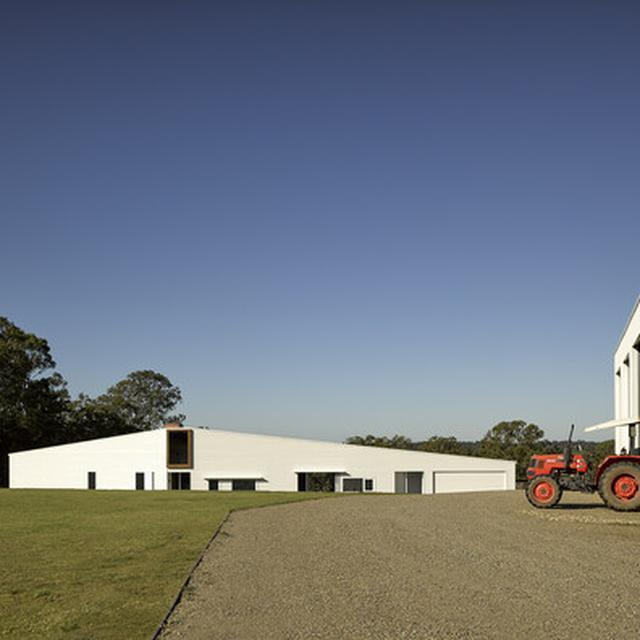building: (8, 423, 517, 492)
